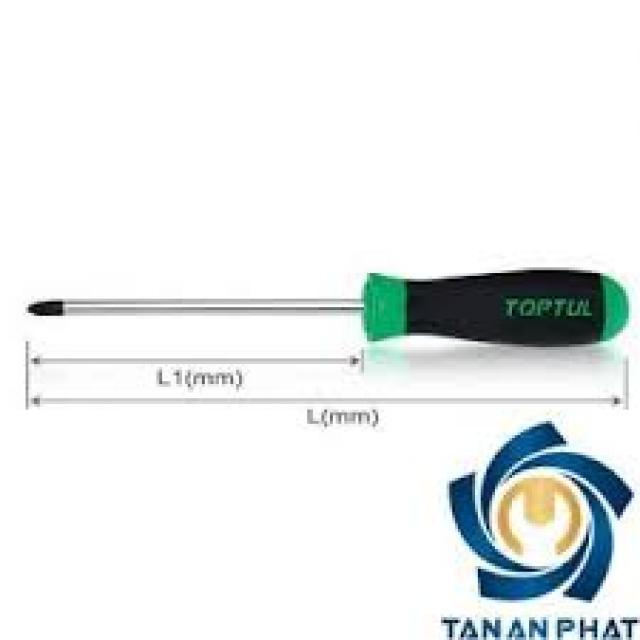screwdriver: (26, 268, 632, 346)
